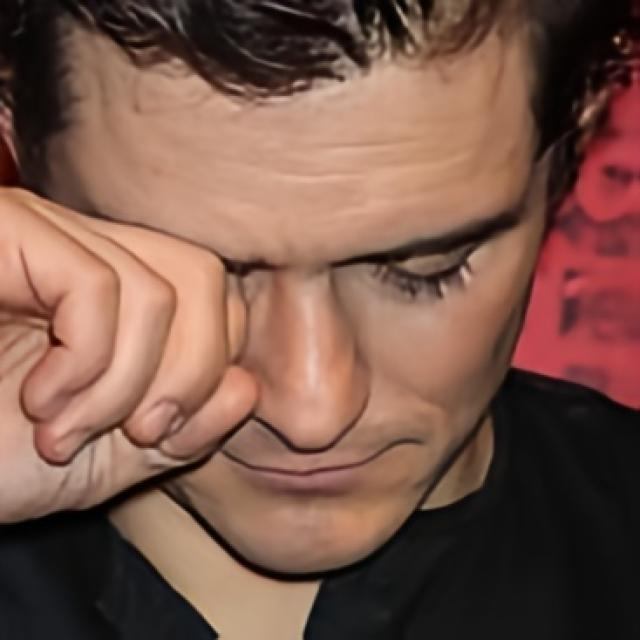sad: (46, 0, 549, 578)
